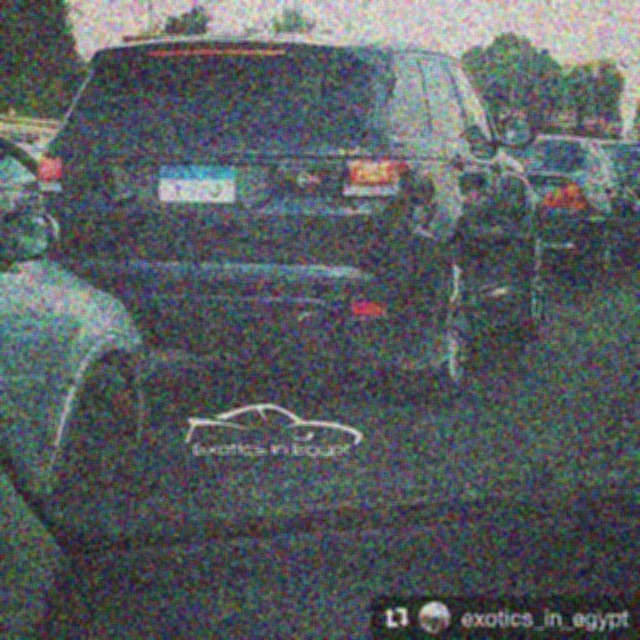License Plate: (154, 158, 239, 206)
